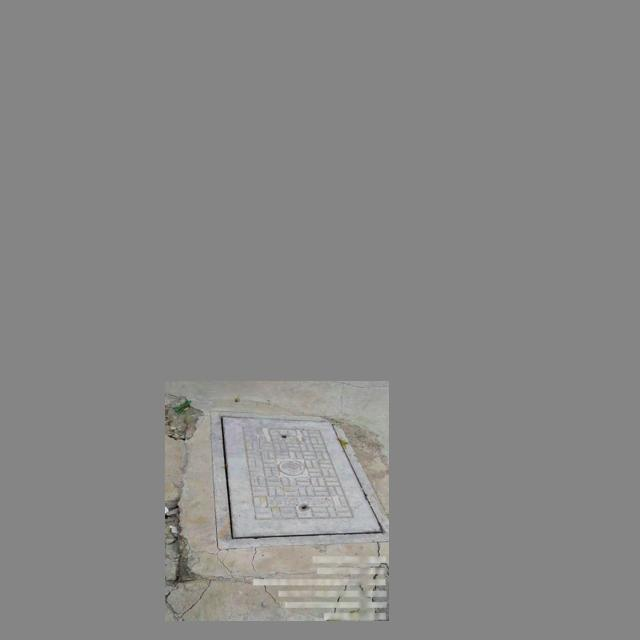good: (211, 410, 389, 549)
